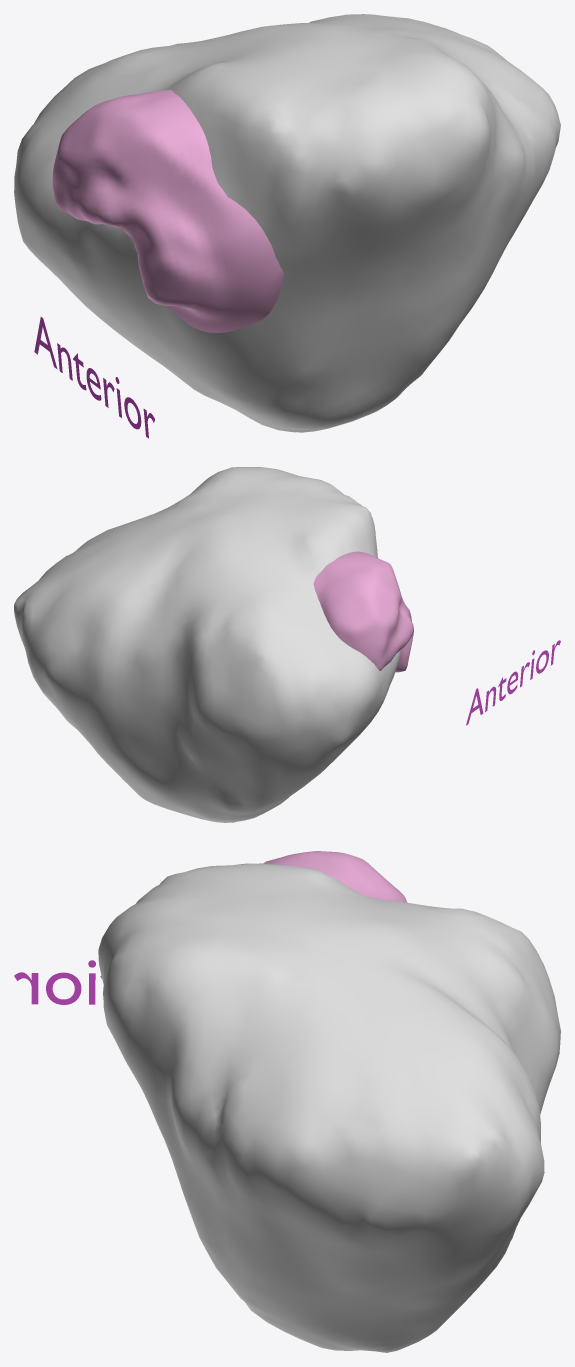
The model's file is labelled_Oct13v2.glb.
The picture shows the model from 3 angles, top to bottom: view 1: azimuth 30°, elevation 25°; view 2: azimuth 150°, elevation 25°; view 3: azimuth 270°, elevation 25°; orthographic projection. The views are drawn at different scales.
Parts seen in each view (by area): view 1: ProstateMRIPPMF17smoothed2Fixed, TumourSUV4, Text; view 2: ProstateMRIPPMF17smoothed2Fixed, TumourSUV4, Text; view 3: ProstateMRIPPMF17smoothed2Fixed, TumourSUV4, Text.
Boxes of the visible parts, <box> form: ProstateMRIPPMF17smoothed2Fixed: <box>14,14,560,432</box>; TumourSUV4: <box>52,90,283,333</box>; Text: <box>34,317,154,438</box>; ProstateMRIPPMF17smoothed2Fixed: <box>14,467,401,822</box>; TumourSUV4: <box>313,551,413,672</box>; Text: <box>466,640,560,725</box>; ProstateMRIPPMF17smoothed2Fixed: <box>98,863,560,1352</box>; TumourSUV4: <box>263,851,407,902</box>; Text: <box>14,960,101,1004</box>.
Size of the model in its own units: 8.79 by 6.36 by 7.4.
